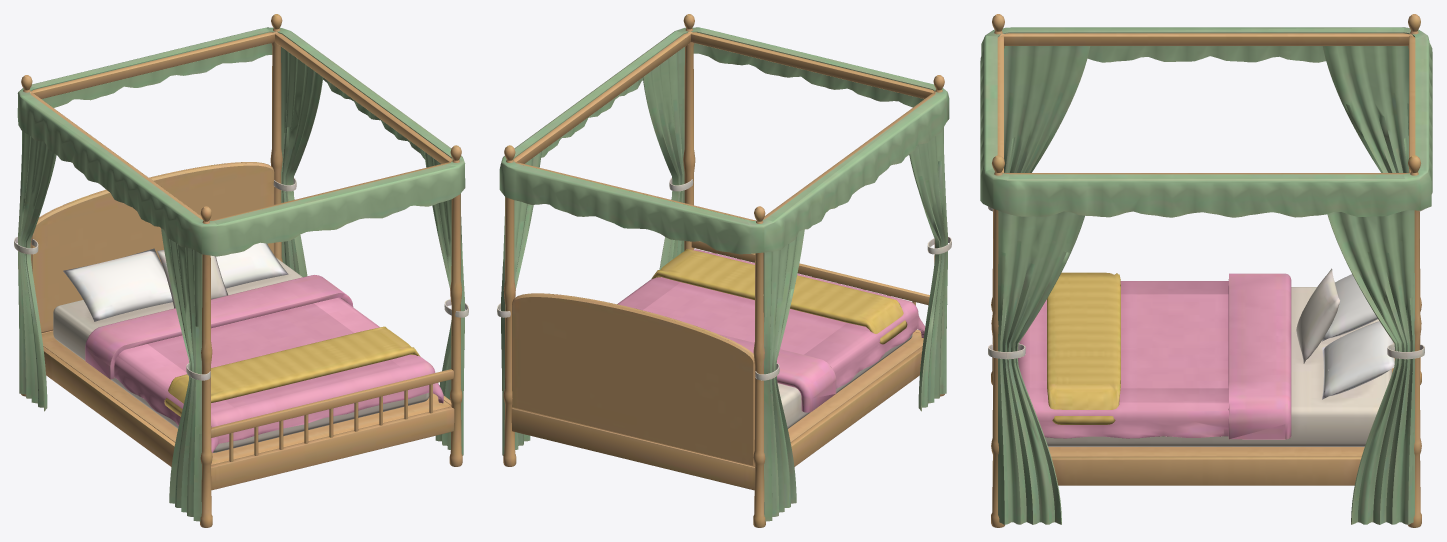
Rendered from canopy-bed.glb.
3 renders of one model, left to right at view 1: azimuth 30°, elevation 25°; view 2: azimuth 150°, elevation 25°; view 3: azimuth 270°, elevation 25°, orthographic. The views are drawn at different scales.
Visible parts, largest first — view 1: canopy-bed_body; view 2: canopy-bed_body; view 3: canopy-bed_body.
Part boxes in pixels (x1,y1,x2,y2): canopy-bed_body: (14, 14, 468, 527); canopy-bed_body: (497, 14, 951, 527); canopy-bed_body: (980, 14, 1432, 527).
Bounding box in the file's own units: 2 × 2.19 × 2.44.
1 material, 1 textured.
